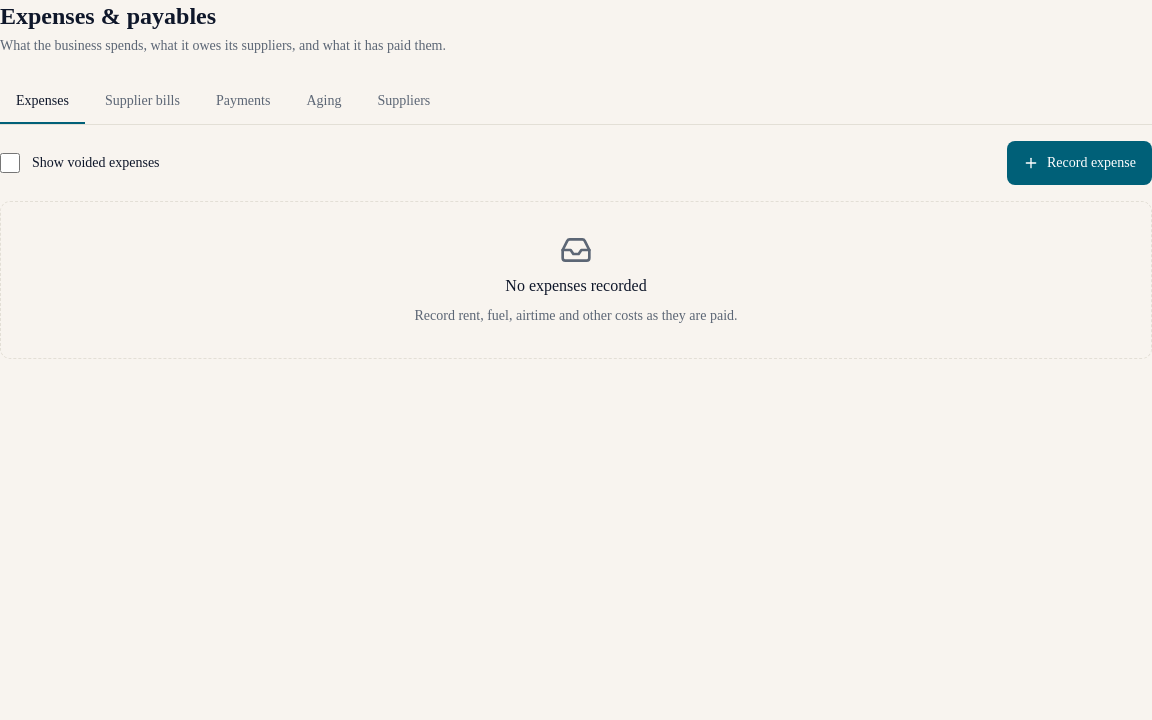
Test: a bill after part of the order has been billed (T-B-PO-LINE-BILLEDQTY) › starts each line at what was received but not yet billed
The width and height of the screenshot is (1152, 720).
Click the tab "Supplier bills". click: click(142, 102)
box: [89,80,196,124]
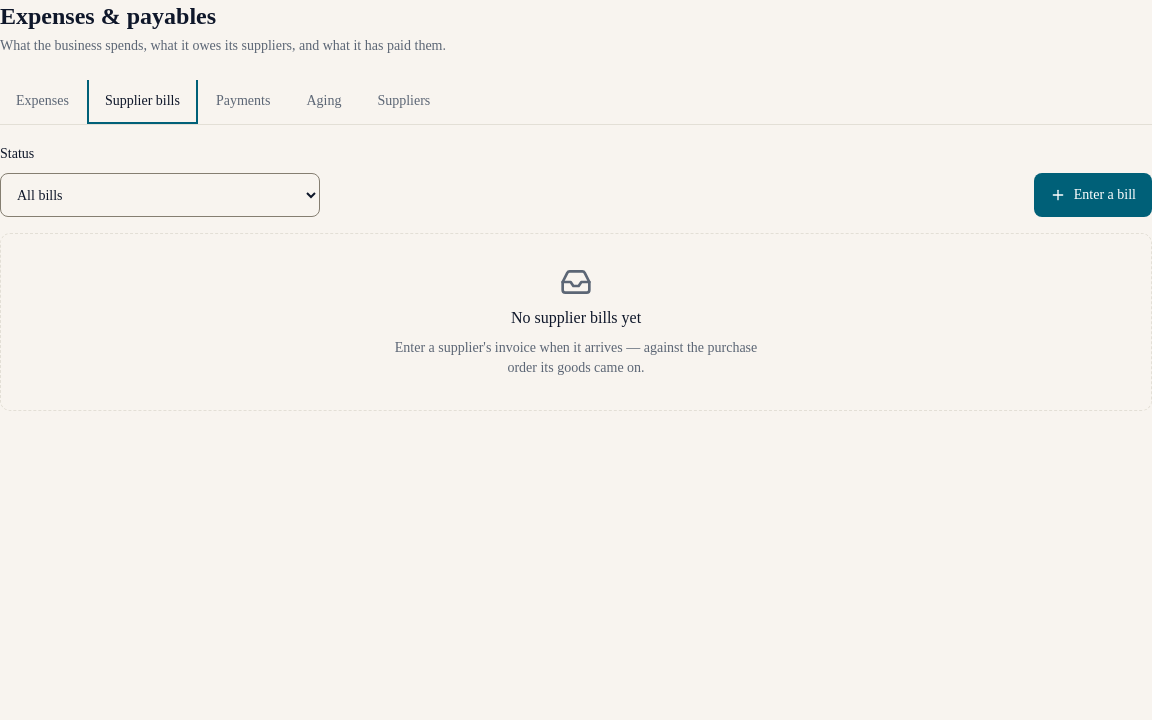
Click the button "Enter a bill". click: click(1093, 195)
box: [1034,173,1151,217]
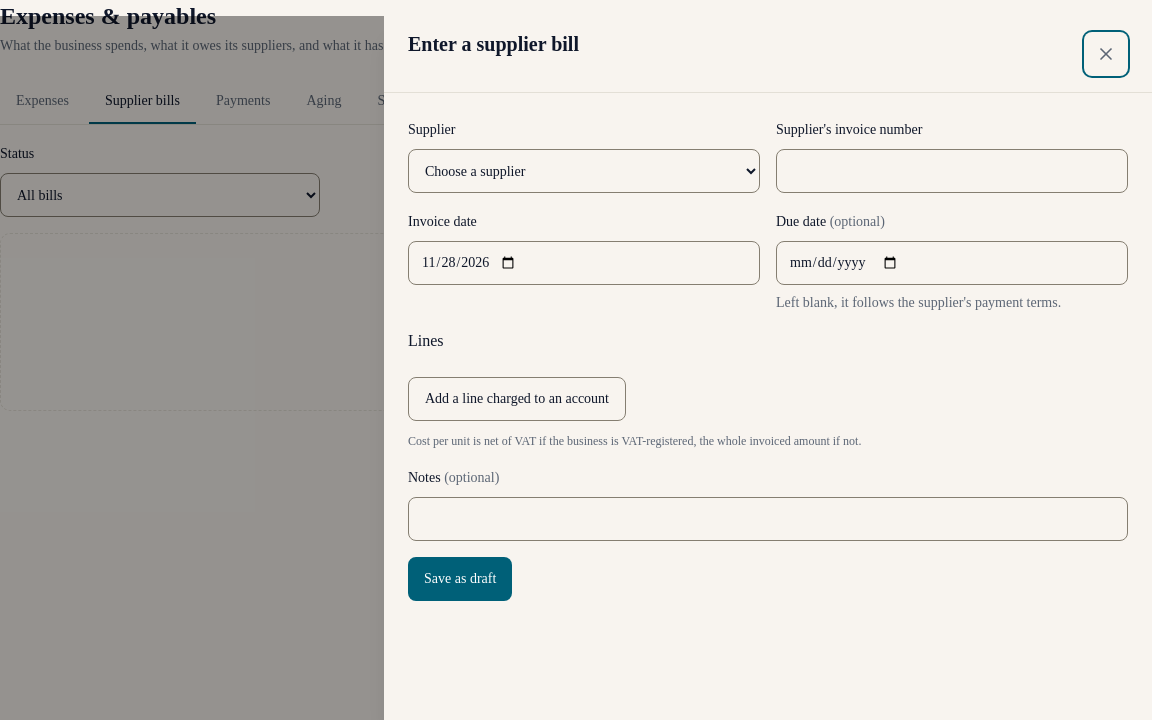
Select "Bamburi Distributors Ltd" in the dropdown labelled "Supplier". click: (584, 171)
box: [408,149,760,193]
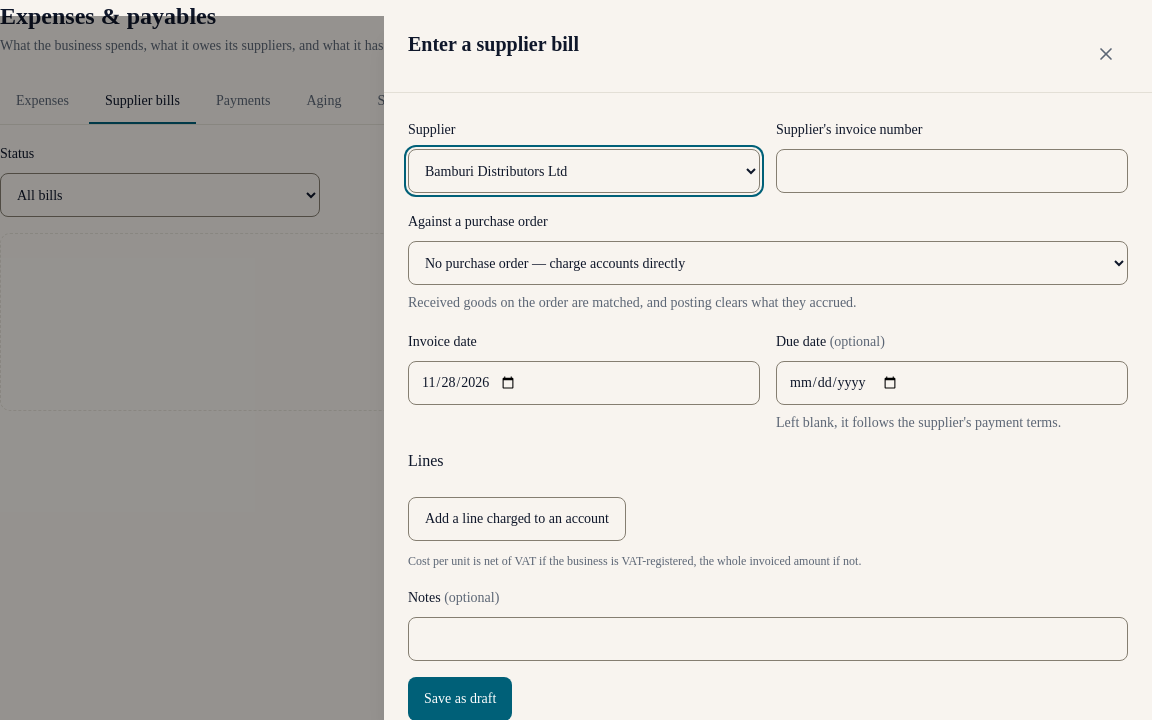
Select "PO 0009 · received" in the dropdown labelled "Against a purchase order". click: (768, 263)
box: [408,241,1128,285]
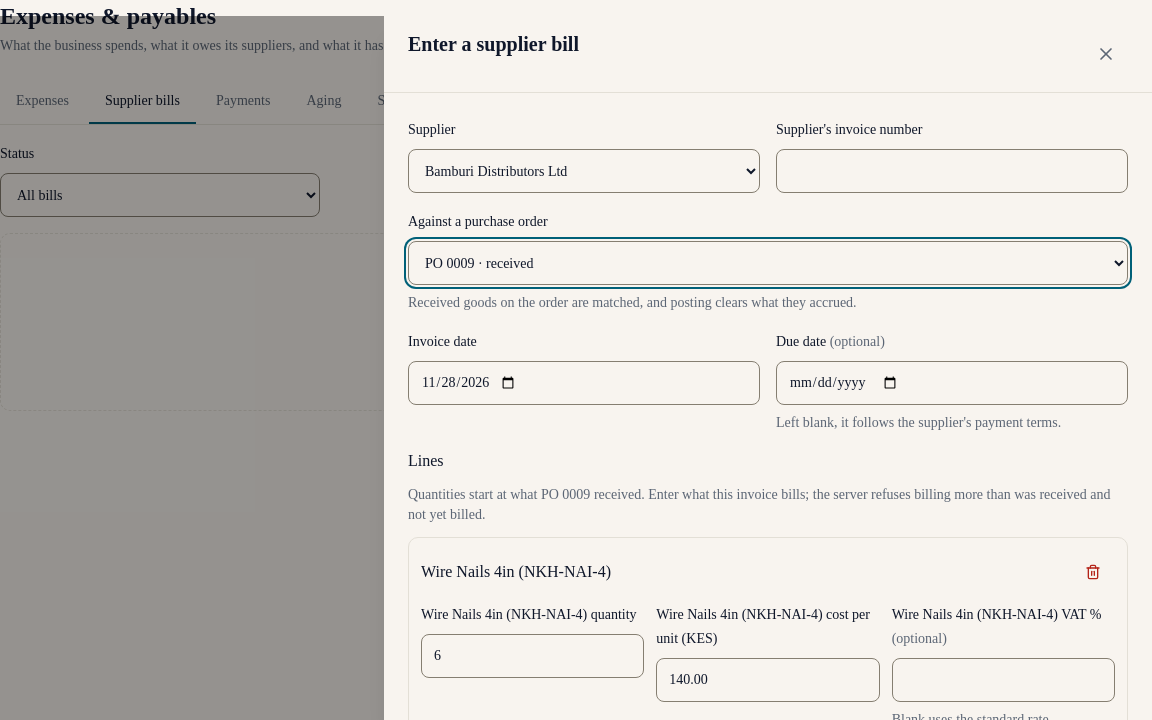
Expected: the field labelled "Wire Nails 4in (NKH-NAI-4) quantity" holds "6", [421,634,644,678]
